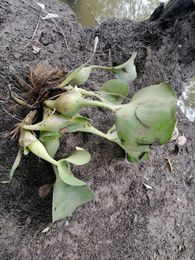water_hyacinth: (12, 39, 181, 218)
